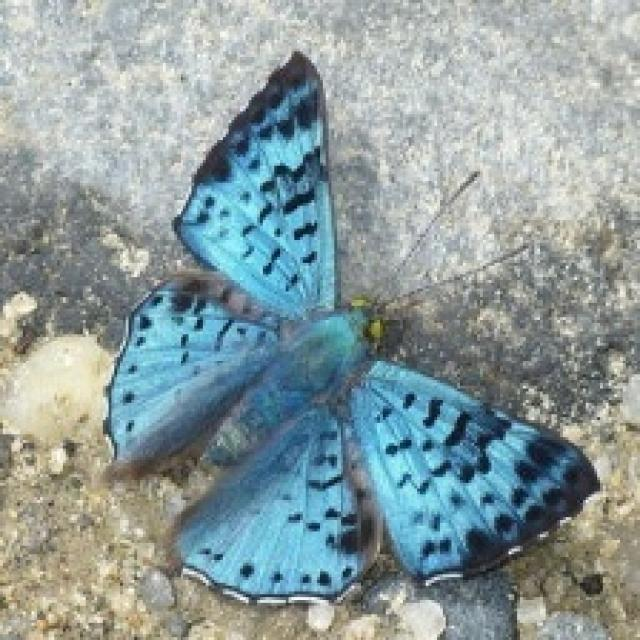butterfly: (100, 45, 600, 606)
